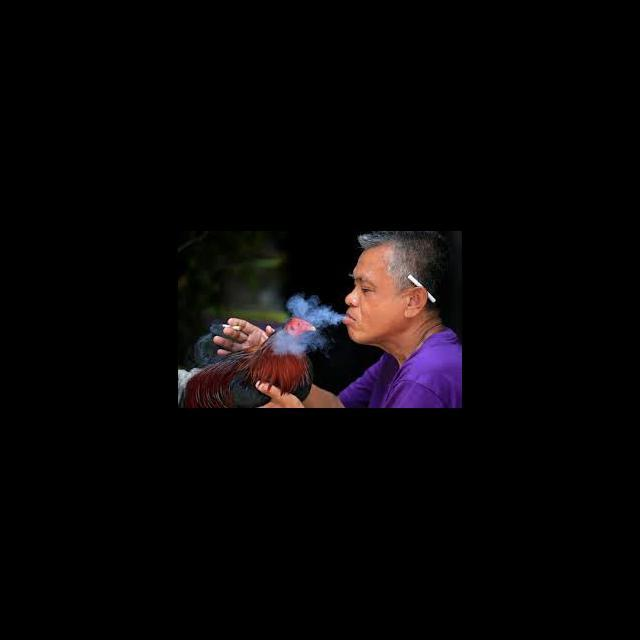Smoke: (281, 296, 344, 354), (190, 316, 223, 363)
